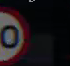Speed limit: (0, 2, 30, 64)
